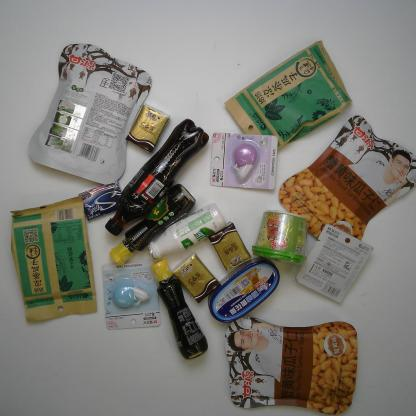Canned Food: (209, 258, 282, 323)
Dried Food: (226, 40, 353, 153), (11, 195, 99, 322)
Dried Fruit: (277, 117, 416, 247), (29, 42, 152, 188), (226, 316, 360, 410)
Drink: (104, 120, 212, 235)
Gum: (78, 182, 126, 220)
Instant Drink: (252, 208, 312, 265)
Milk: (146, 202, 225, 263)
Seasoner: (110, 184, 197, 267), (150, 260, 209, 360)
Stationery: (296, 223, 375, 303), (102, 258, 164, 332), (210, 131, 278, 190)
Tissue: (173, 257, 221, 304), (128, 104, 169, 154), (211, 224, 250, 271)
